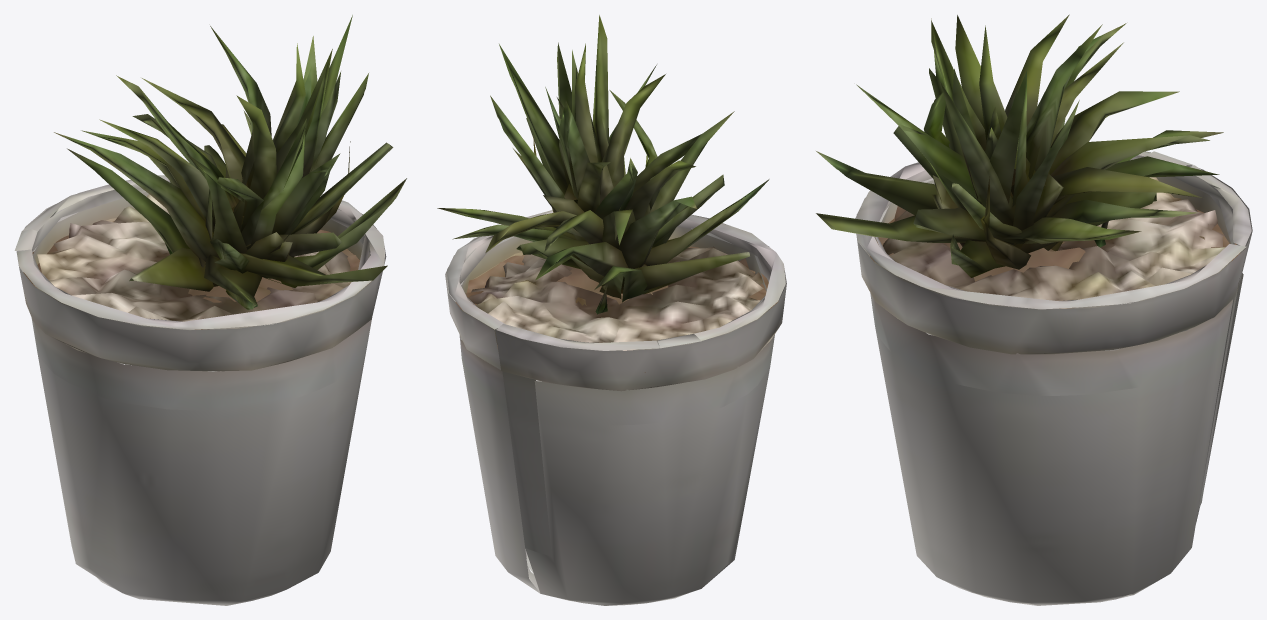
Rendered from plant-small-lightweight-701c7ad994.glb.
3 views of the same model, side by side, from view 1: azimuth 30°, elevation 25°; view 2: azimuth 150°, elevation 25°; view 3: azimuth 270°, elevation 25° (orthographic). The views are drawn at different scales.
Parts seen in each view (by area): view 1: potted_plant_04_dirt; view 2: potted_plant_04_dirt; view 3: potted_plant_04_dirt.
Part boxes in pixels (<box>): potted_plant_04_dirt: <box>14,15,406,605</box>; potted_plant_04_dirt: <box>437,15,786,605</box>; potted_plant_04_dirt: <box>816,14,1252,605</box>.
Bounding box in the file's own units: 0.168 × 0.2676 × 0.1846.
1 material, 1 textured.
